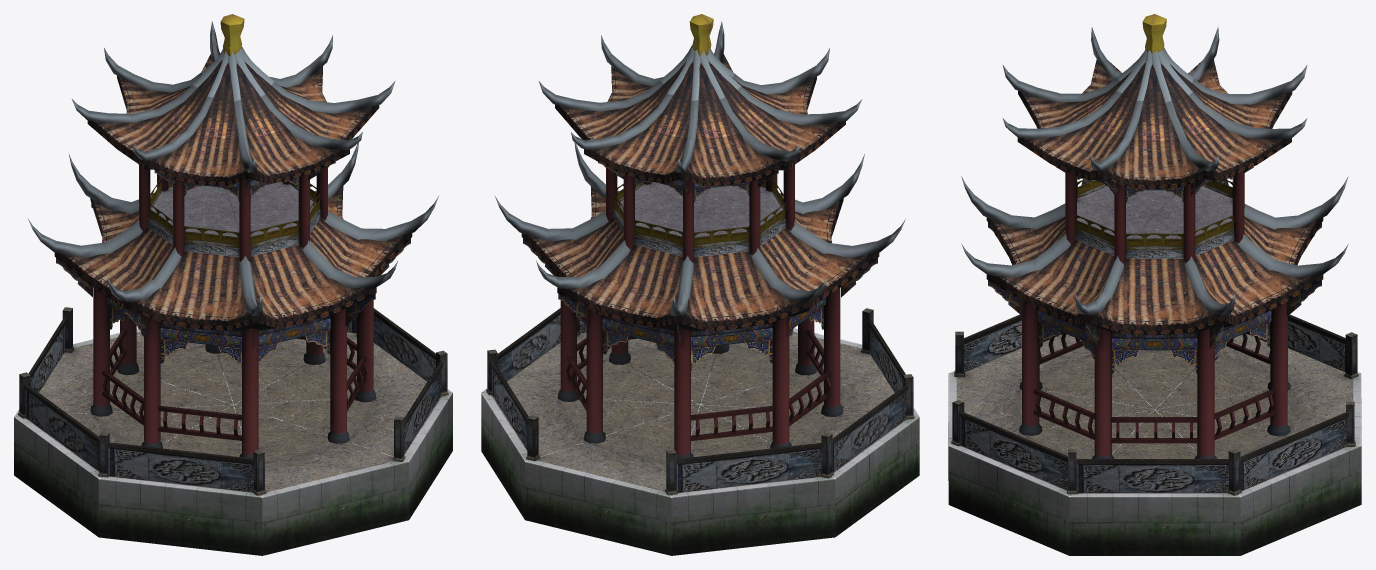
The model's file is ting.fbx.
3 views of the same model, side by side, from view 1: azimuth 30°, elevation 25°; view 2: azimuth 150°, elevation 25°; view 3: azimuth 270°, elevation 25° (orthographic).
Visible parts, largest first — view 1: Obj3d66-575031-1-390; view 2: Obj3d66-575031-1-390; view 3: Obj3d66-575031-1-390.
Part boxes in pixels (x1=…): Obj3d66-575031-1-390: x1=14, y1=14, x2=452, y2=555; Obj3d66-575031-1-390: x1=481, y1=14, x2=919, y2=555; Obj3d66-575031-1-390: x1=948, y1=14, x2=1361, y2=555.
Size of the model in its own units: 4062 by 4928 by 4062.
1 material, 1 textured.
